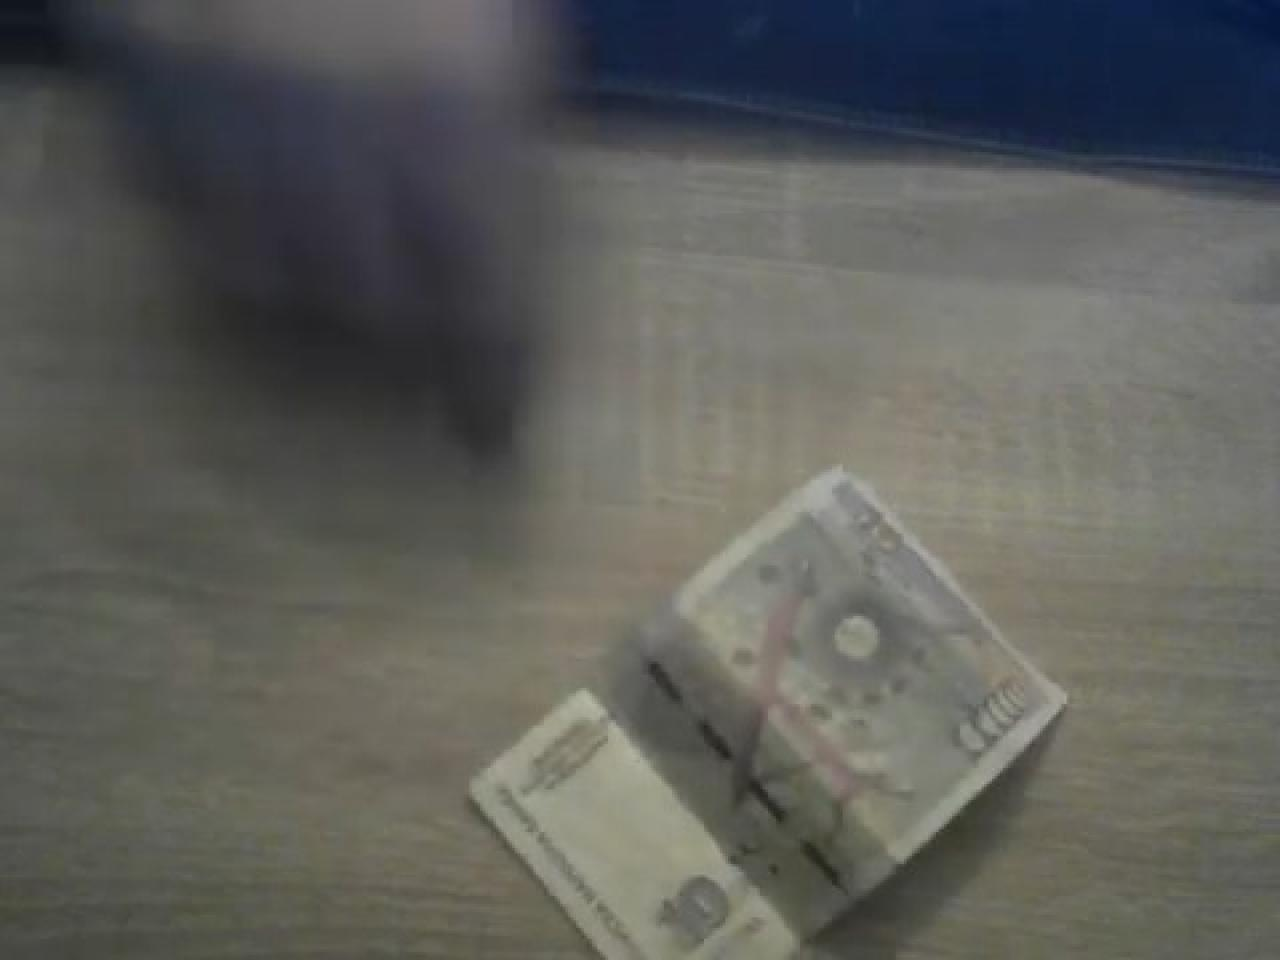10leva: (464, 469, 1069, 960)
